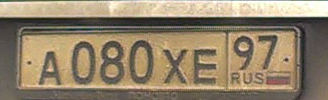character: (69, 38, 97, 85), (128, 38, 156, 85), (191, 45, 219, 88), (161, 46, 190, 87), (99, 40, 125, 85), (37, 49, 63, 88), (255, 32, 280, 72), (232, 33, 256, 72)
